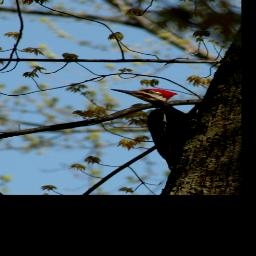Woodpecker: (105, 87, 200, 172)
